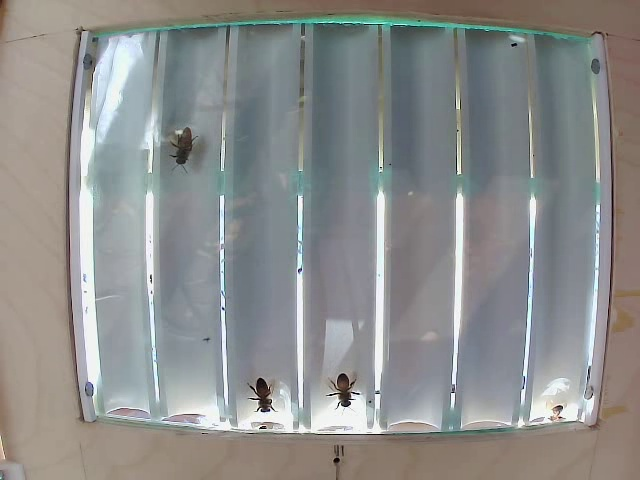bee: (159, 105, 200, 168), (327, 367, 367, 418), (248, 374, 281, 418)
